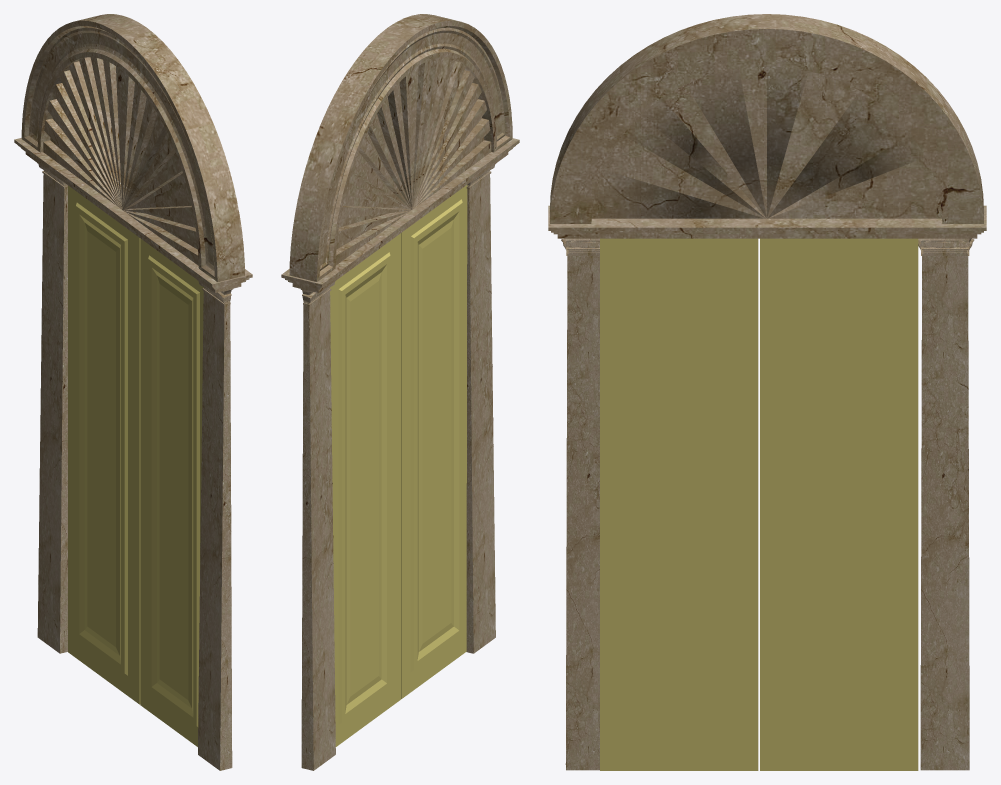
File: entrance08.fbx
The picture shows the model from 3 angles, left to right: view 1: azimuth 30°, elevation 25°; view 2: azimuth 150°, elevation 25°; view 3: azimuth 270°, elevation 25°; orthographic projection. The views are drawn at different scales.
Parts seen in each view (by area): view 1: stone_column_846, gold_129, gold_128, stone_column_847, stone_column_844, stone_column_845; view 2: stone_column_846, gold_129, gold_128, stone_column_844, stone_column_847, stone_column_845; view 3: gold_129, gold_128, stone_column_846, stone_column_844, stone_column_847, stone_column_845.
Boxes of the visible parts, x1,y1,x2,y2 form: stone_column_846: (21, 14, 244, 282); gold_129: (68, 185, 140, 704); gold_128: (140, 238, 203, 746); stone_column_847: (197, 280, 232, 770); stone_column_844: (37, 163, 67, 653); stone_column_845: (14, 138, 252, 292); stone_column_846: (289, 14, 512, 281); gold_129: (330, 233, 401, 746); gold_128: (401, 185, 467, 698); stone_column_844: (300, 281, 335, 770); stone_column_847: (466, 164, 495, 653); stone_column_845: (281, 138, 519, 292); gold_129: (760, 238, 918, 770); gold_128: (600, 238, 758, 770); stone_column_846: (550, 14, 983, 223); stone_column_844: (918, 238, 974, 770); stone_column_847: (561, 238, 599, 770); stone_column_845: (548, 205, 986, 238).
Size of the model in its own units: 7.79 by 124 by 65.93.
